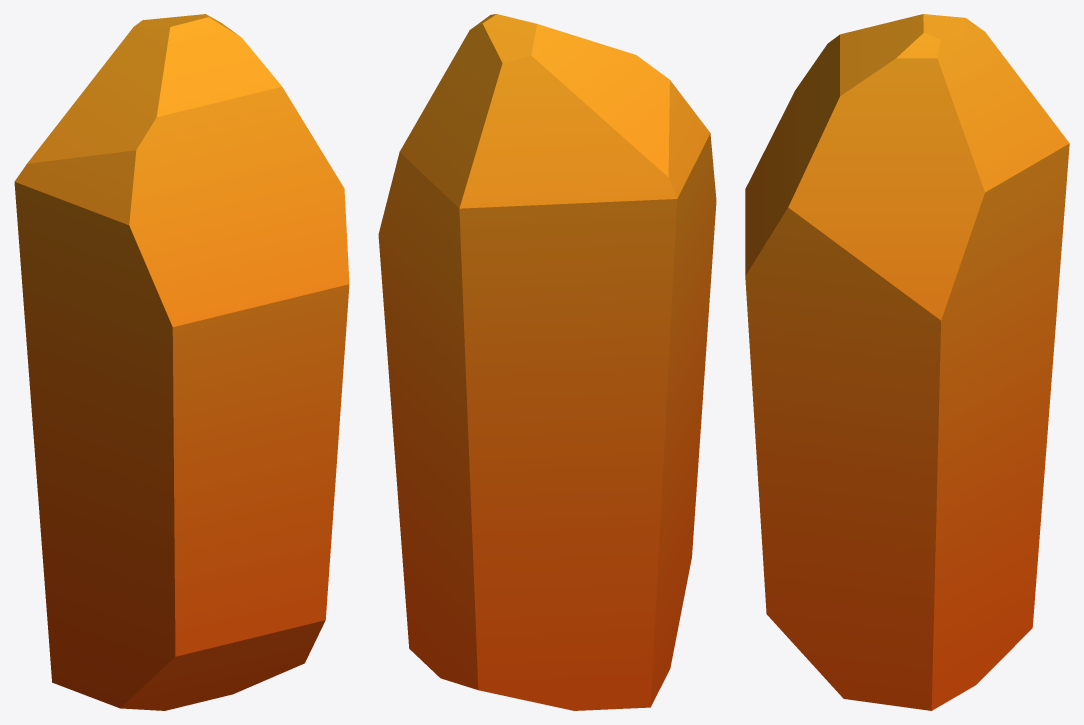
The model's file is Crystal_02.fbx.
3 renders of one model, left to right at view 1: azimuth 30°, elevation 25°; view 2: azimuth 150°, elevation 25°; view 3: azimuth 270°, elevation 25°, orthographic. The views are drawn at different scales.
Parts seen in each view (by area): view 1: Crystal_02; view 2: Crystal_02; view 3: Crystal_02.
Boxes of the visible parts, x1,y1,x2,y2 form: Crystal_02: [14, 14, 349, 710]; Crystal_02: [378, 14, 716, 710]; Crystal_02: [745, 14, 1069, 710].
Bounding box in the file's own units: 0.8444 × 1.83 × 0.8078.
